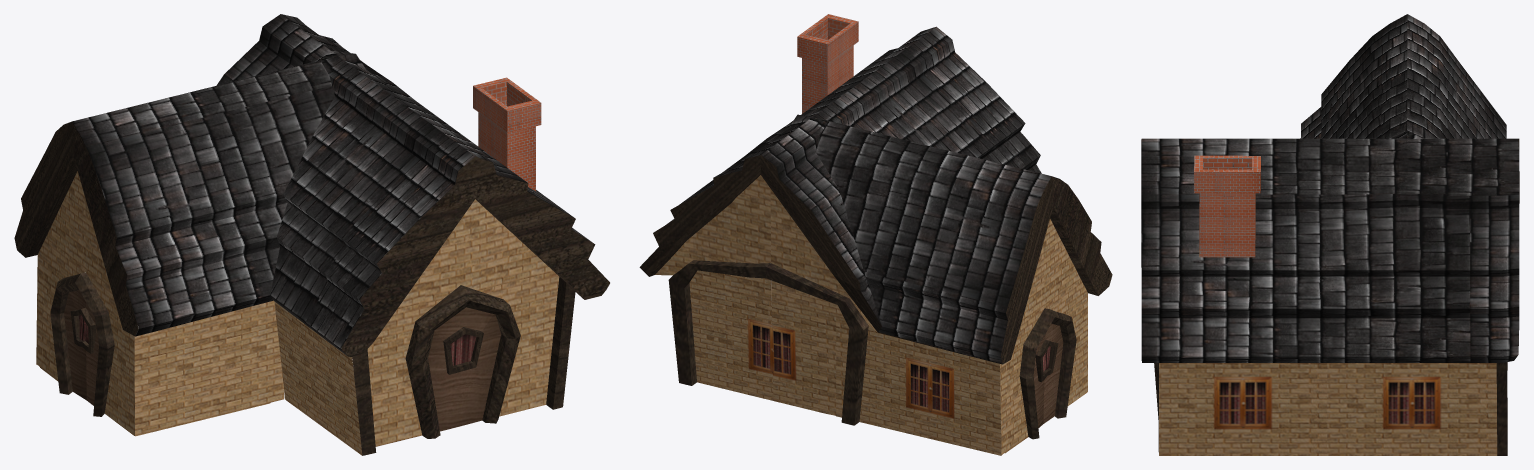
File: Cabaña_Finish_V003_New_Textures.fbx
3 renders of one model, left to right at view 1: azimuth 30°, elevation 25°; view 2: azimuth 150°, elevation 25°; view 3: azimuth 270°, elevation 25°, orthographic. The views are drawn at different scales.
Visible parts, largest first — view 1: Cube; view 2: Cube; view 3: Cube.
Part boxes in pixels (x1=…): Cube: x1=14, y1=14, x2=609, y2=455; Cube: x1=639, y1=14, x2=1112, y2=455; Cube: x1=1141, y1=14, x2=1519, y2=455.
Bounding box in the file's own units: 232 × 162 × 196.
2 materials, 2 textured.
